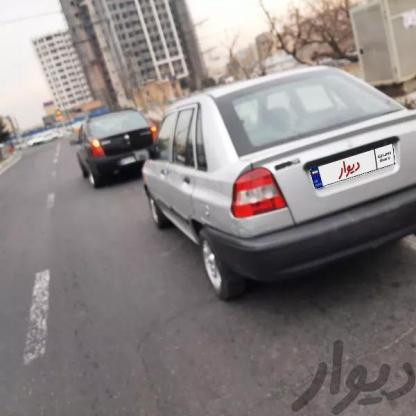Car: (147, 65, 416, 322), (69, 105, 166, 194)
